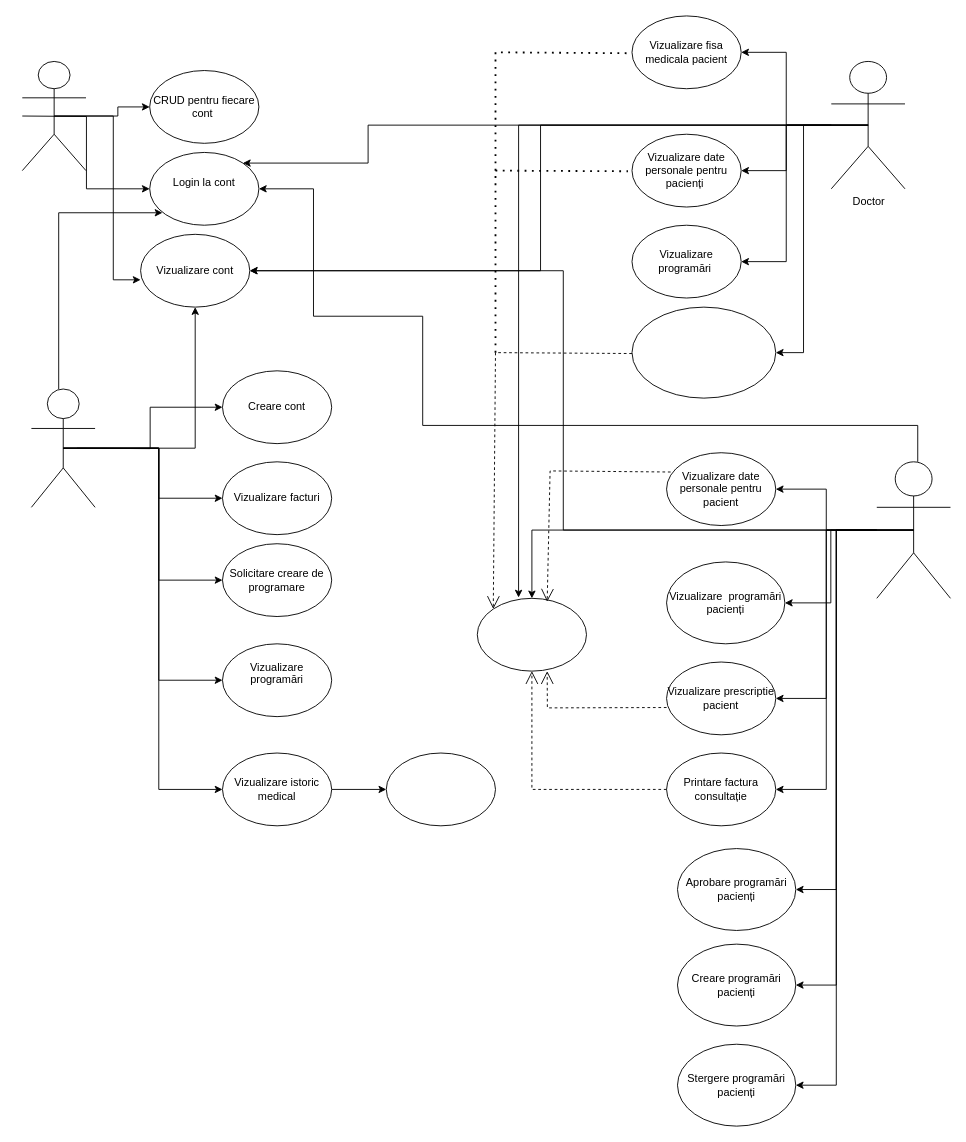
This 966x1142 diagram has some shape labels left out. The shapes that lost their labels are listed below. From the top down, each one's centre as x and y in pixels, then its label:
the point at 53,116: Administrator
the point at 703,352: Creare și vizualizare prescriptie pentru pacient(consultație curenta)
the point at 62,447: Pacient
the point at 913,529: Asistent
the point at 531,634: Vizualizare lista pacienti
the point at 440,789: Rezultate consultatii
